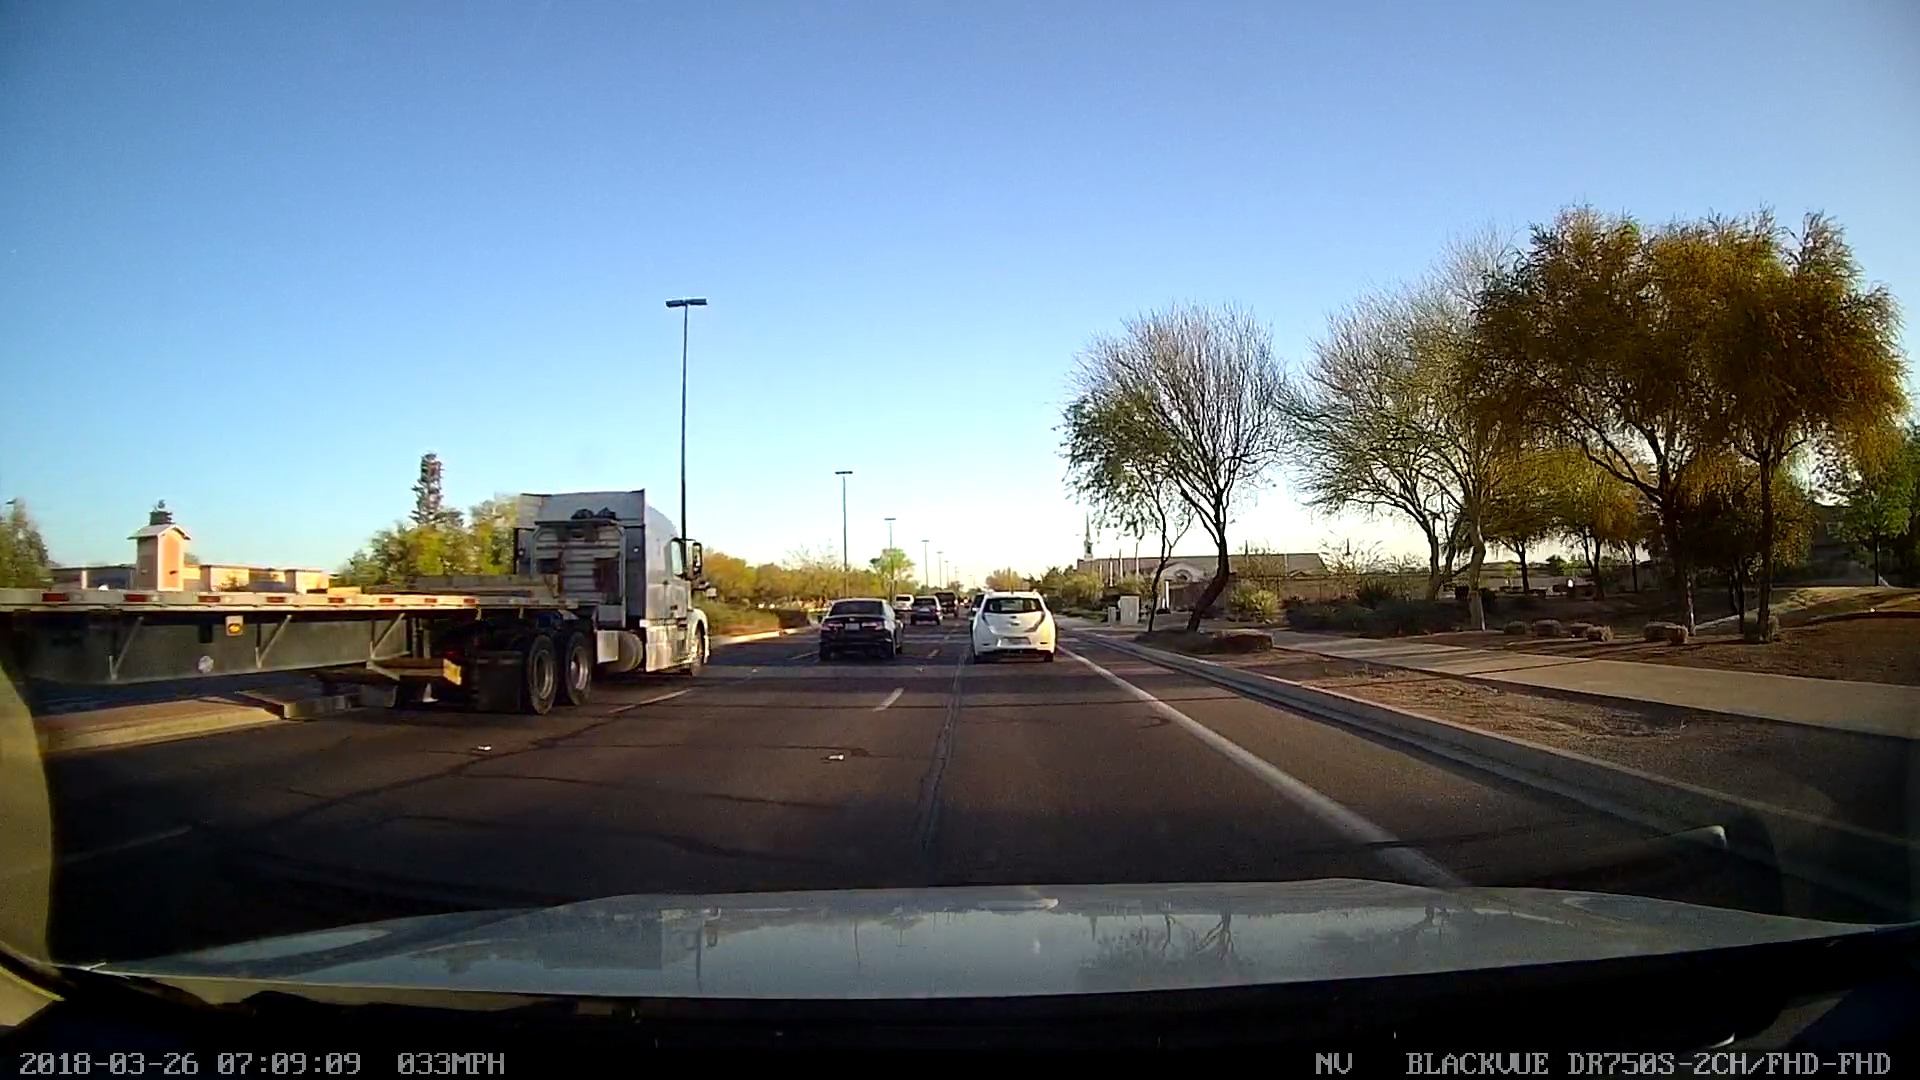vehicle: (0, 465, 725, 753), (796, 580, 920, 676), (957, 578, 1071, 676)
